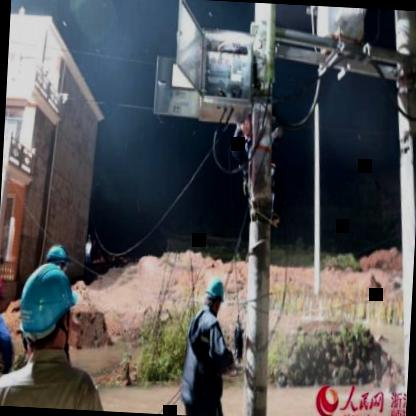helmet: (21, 258, 77, 360), (204, 272, 226, 315), (46, 242, 72, 278), (0, 272, 6, 316)
